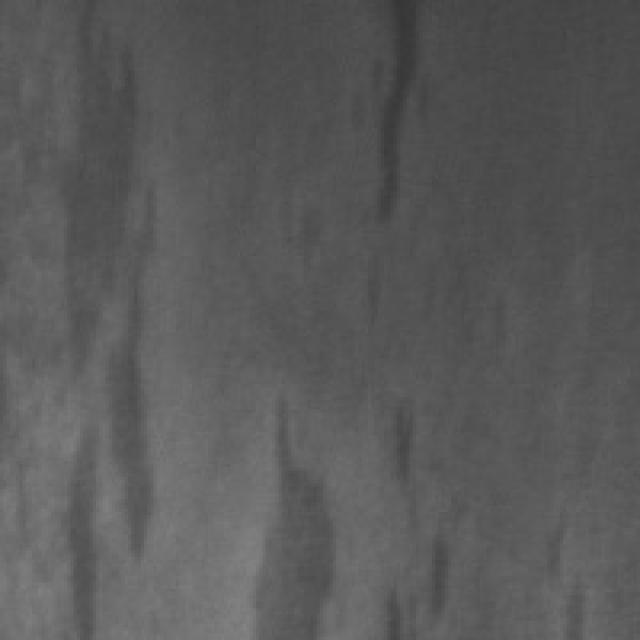inclusion: (16, 7, 154, 630), (237, 381, 333, 634), (345, 0, 432, 230), (368, 509, 451, 630), (532, 509, 598, 630), (372, 387, 422, 538)
